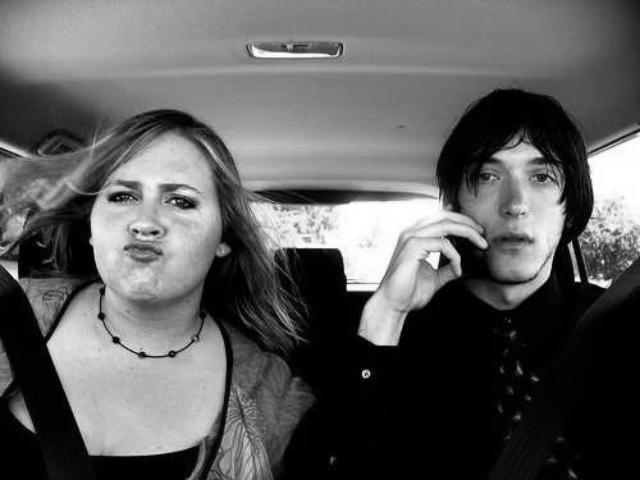SafeDriving: (157, 184, 206, 214), (99, 180, 144, 210), (522, 161, 560, 189), (472, 161, 506, 187)
Seatbelt: (1, 260, 98, 480)
